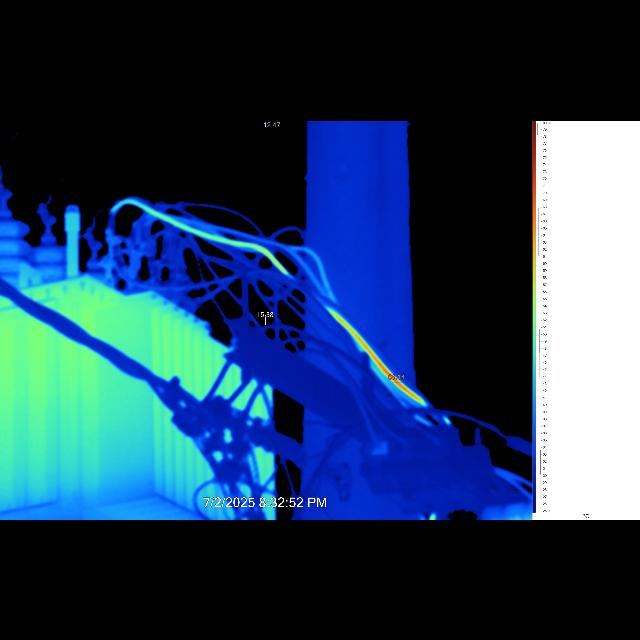full_wire_yellow: (110, 199, 426, 405)
point_overload_red: (328, 307, 424, 405)
